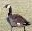goose: (3, 4, 31, 31)
